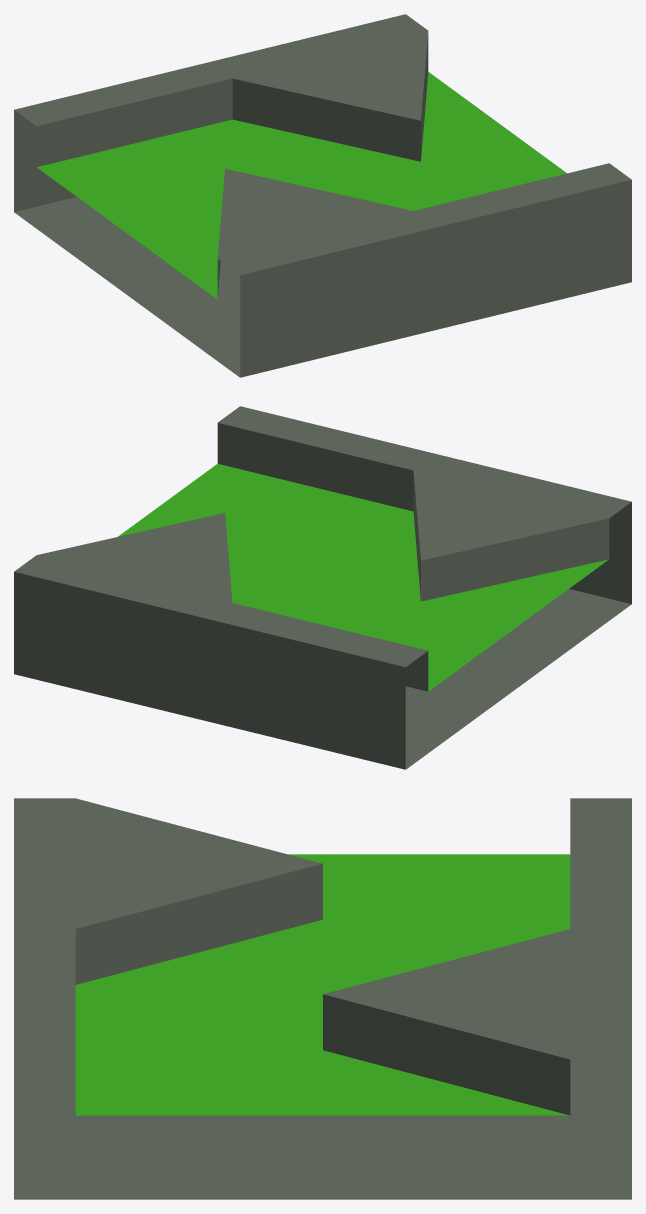
File: StraightChicane.fbx
3 renders of one model, top to bottom at view 1: azimuth 30°, elevation 25°; view 2: azimuth 150°, elevation 25°; view 3: azimuth 270°, elevation 25°, orthographic. The views are drawn at different scales.
Parts seen in each view (by area): view 1: StraightChicane; view 2: StraightChicane; view 3: StraightChicane.
Part boxes in pixels (x1,y1,x2,y2): StraightChicane: (14, 14, 631, 377); StraightChicane: (14, 406, 631, 769); StraightChicane: (14, 798, 631, 1199).
Size of the model in its own units: 200 by 50 by 200.
